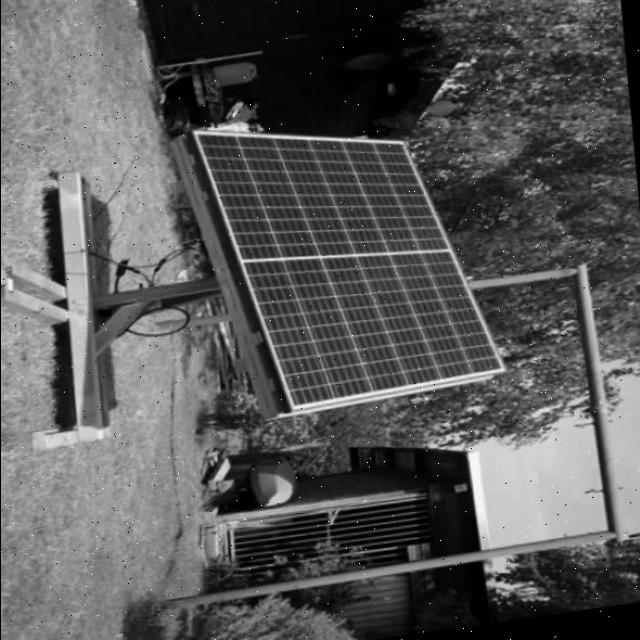Normal Solar Panel: (190, 98, 504, 424)
